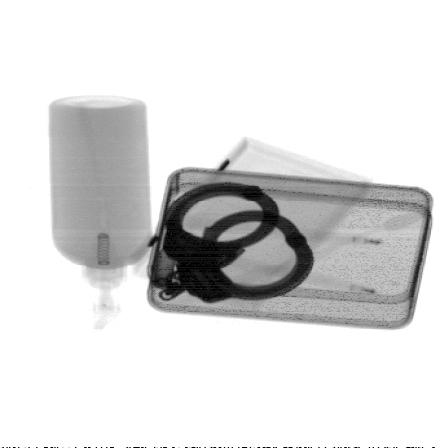HandCuffs: (157, 183, 313, 306)
